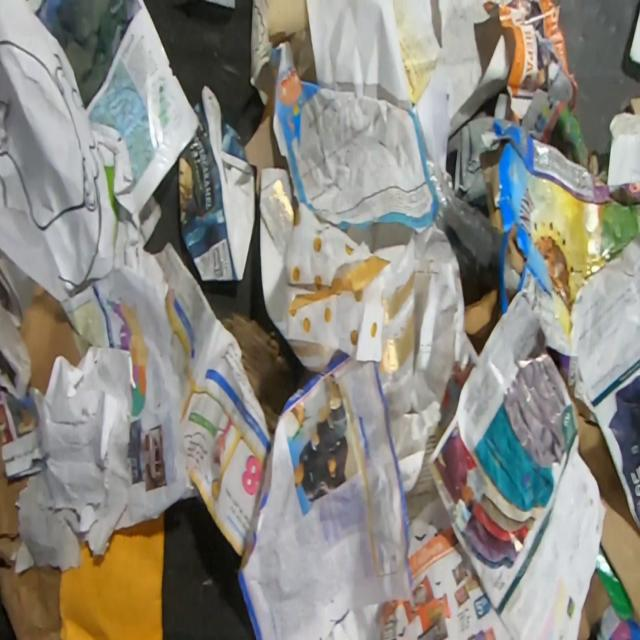cardboard: (462, 120, 640, 414), (557, 368, 640, 624), (177, 84, 256, 281), (221, 312, 320, 436), (0, 465, 62, 640), (15, 282, 82, 397), (244, 111, 289, 197), (575, 567, 611, 640)
rigid_plastic: (424, 156, 500, 275)
